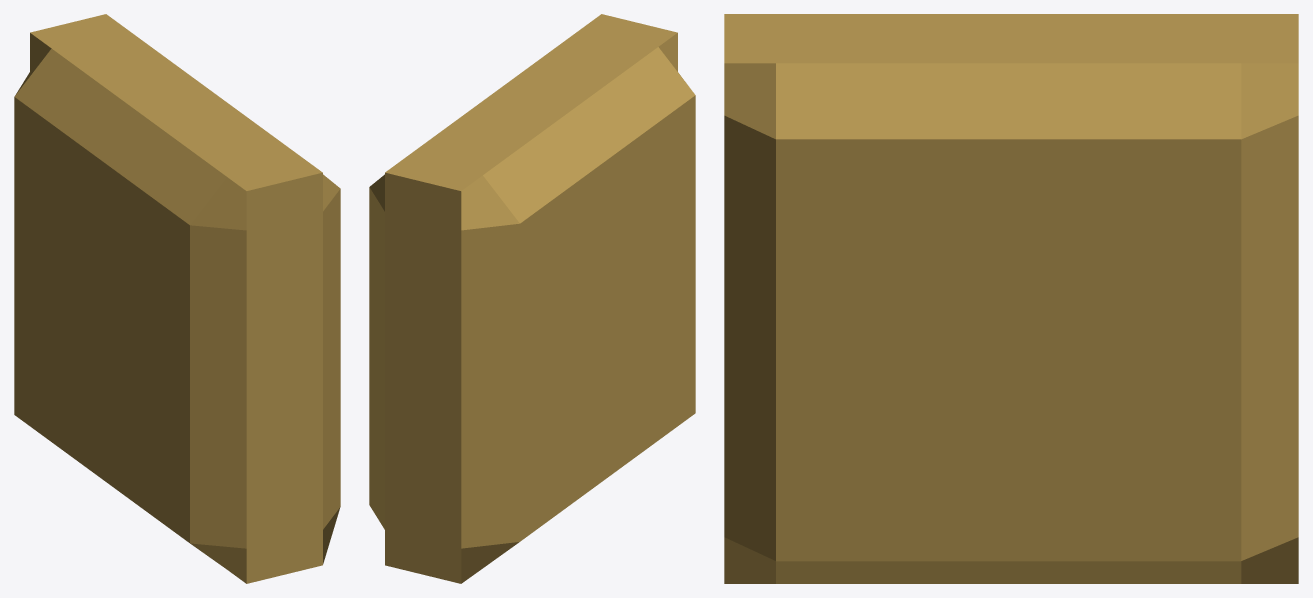
The model's file is Pillow_Yellow.fbx.
3 views of the same model, side by side, from view 1: azimuth 30°, elevation 25°; view 2: azimuth 150°, elevation 25°; view 3: azimuth 270°, elevation 25° (orthographic). The views are drawn at different scales.
Visible parts, largest first — view 1: pillowYellow_geo; view 2: pillowYellow_geo; view 3: pillowYellow_geo.
Boxes of the visible parts, x1,y1,x2,y2 form: pillowYellow_geo: [14, 14, 340, 583]; pillowYellow_geo: [369, 14, 695, 583]; pillowYellow_geo: [724, 14, 1298, 583].
Size of the model in its own units: 46.86 by 117 by 117.
